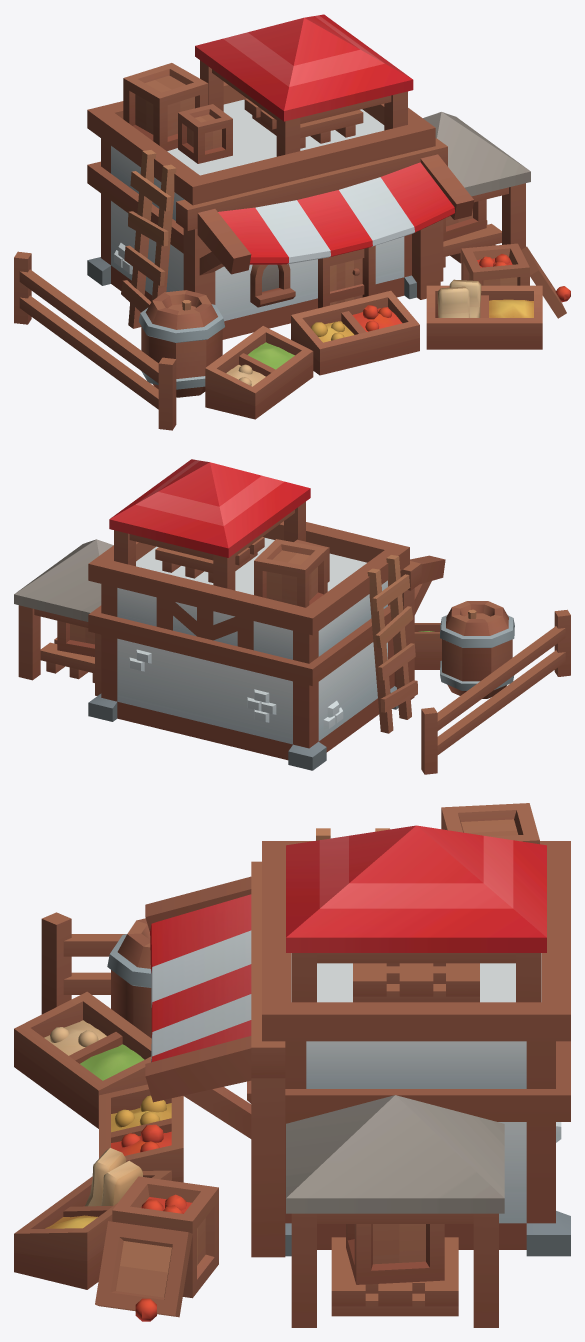
Rendered from kk_market_v1.glb.
3 renders of one model, top to bottom at view 1: azimuth 30°, elevation 25°; view 2: azimuth 150°, elevation 25°; view 3: azimuth 270°, elevation 25°, orthographic. The views are drawn at different scales.
Parts seen in each view (by area): view 1: building_market_red; view 2: building_market_red; view 3: building_market_red.
Part boxes in pixels (x1,y1,x2,y2): building_market_red: (14, 14, 570, 430); building_market_red: (14, 459, 570, 774); building_market_red: (14, 803, 570, 1327).
Size of the model in its own units: 1.8 by 0.9817 by 1.32.
Materials: 1 (1 with a texture image).
